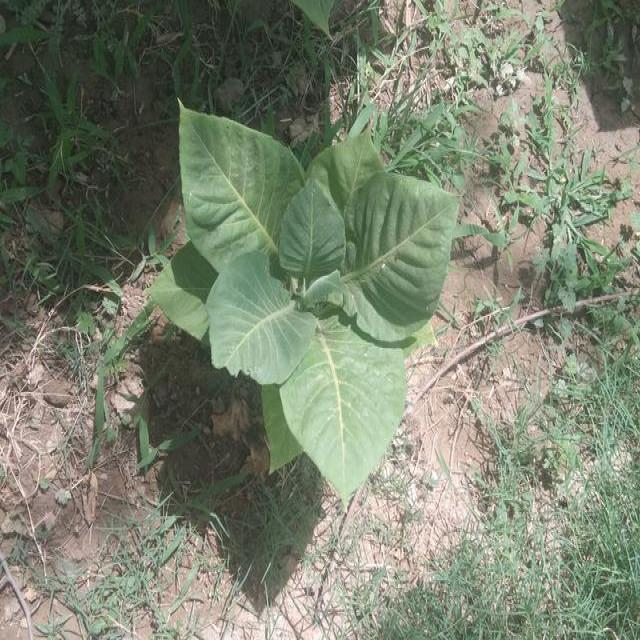crop: (142, 74, 473, 502)
